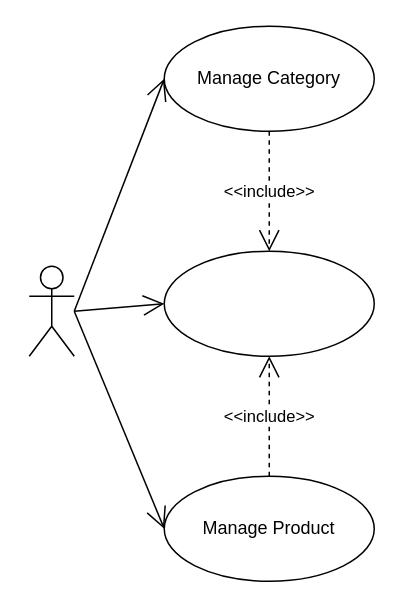
Some shapes in this 401 by 608 pixel diagram are drawn without their labels. Here are the shapes that lost their labels. From the top down, the centre of each, then its label:
pixel 51 310: Admin
pixel 268 303: Login
